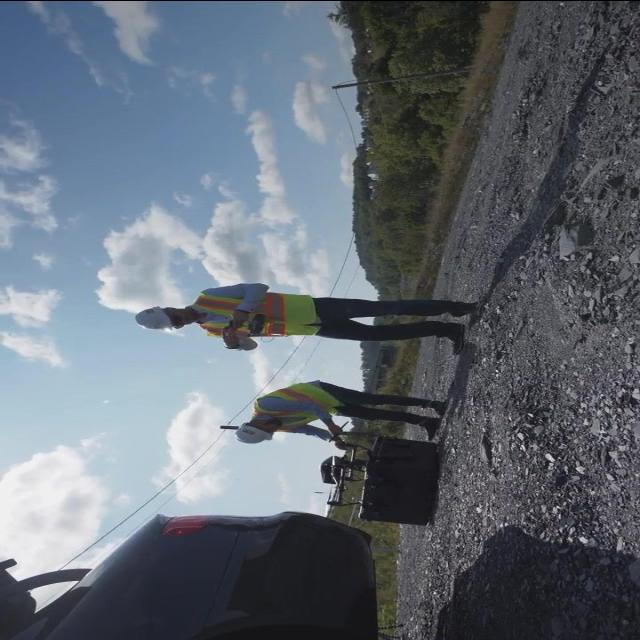helmet: (127, 299, 181, 339), (230, 421, 268, 446)
jacket: (192, 276, 320, 346), (254, 372, 344, 439)
